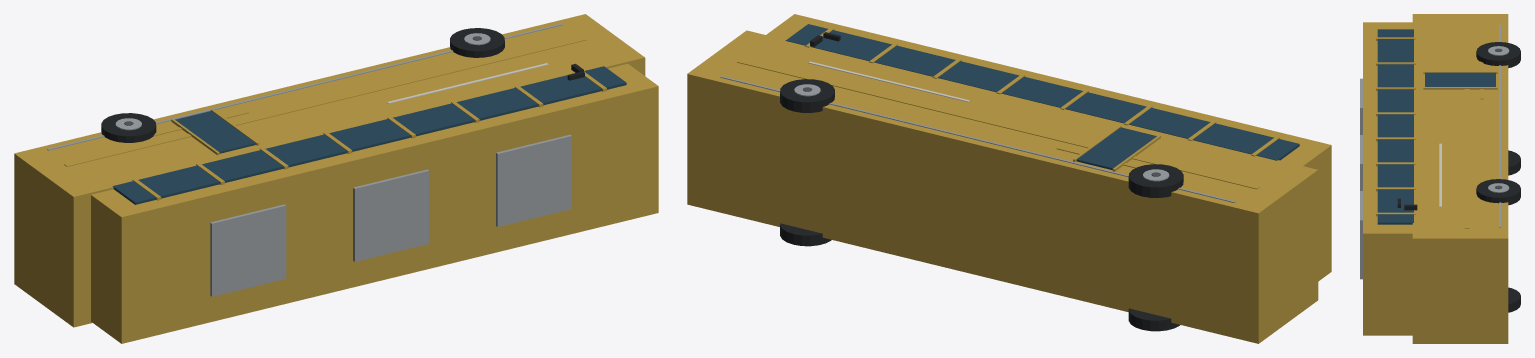
Rendered from RM_Bus_07.glb.
The picture shows the model from 3 angles, left to right: view 1: azimuth 30°, elevation 25°; view 2: azimuth 150°, elevation 25°; view 3: azimuth 270°, elevation 25°; orthographic projection. The views are drawn at different scales.
Visible parts, largest first — view 1: part_001, part_000, part_002, part_037, part_039, part_038, part_013, part_040, part_024, part_030, part_014; view 2: part_000, part_002, part_001, part_013, part_040, part_024, part_030, part_014, part_021, part_027; view 3: part_000, part_001, part_002, part_013, part_040, part_030, part_024, part_014, part_027, part_021, part_039, part_042 (+6 smaller).
Boxes of the visible parts, box(x1,y1,x2,y2) form: part_001: box(91, 64, 658, 343); part_000: box(14, 14, 645, 327); part_002: box(112, 66, 626, 204); part_037: box(210, 204, 286, 296); part_039: box(496, 134, 571, 226); part_038: box(353, 169, 428, 261); part_013: box(64, 37, 586, 166); part_040: box(175, 111, 255, 153); part_024: box(101, 113, 156, 142); part_030: box(450, 28, 504, 57); part_014: box(47, 23, 562, 150); part_000: box(687, 30, 1318, 343); part_002: box(785, 24, 1299, 160); part_001: box(766, 14, 1331, 281); part_013: box(737, 59, 1259, 189); part_040: box(1076, 127, 1156, 169); part_024: box(1128, 164, 1183, 197); part_030: box(780, 79, 834, 112); part_014: box(720, 76, 1235, 202); part_021: box(1128, 308, 1179, 331); part_027: box(780, 223, 831, 246); part_000: box(1412, 14, 1508, 343); part_001: box(1363, 22, 1412, 335); part_002: box(1377, 29, 1413, 224); part_013: box(1464, 23, 1469, 228); part_040: box(1425, 72, 1495, 86); part_030: box(1476, 179, 1520, 205); part_024: box(1476, 42, 1520, 68); part_014: box(1499, 24, 1501, 227); part_027: box(1508, 287, 1520, 312); part_021: box(1508, 150, 1520, 175); part_039: box(1360, 191, 1362, 279); part_042: box(1423, 87, 1497, 89).
Bounding box in the file's own units: 11.22 × 2.77 × 3.4.
